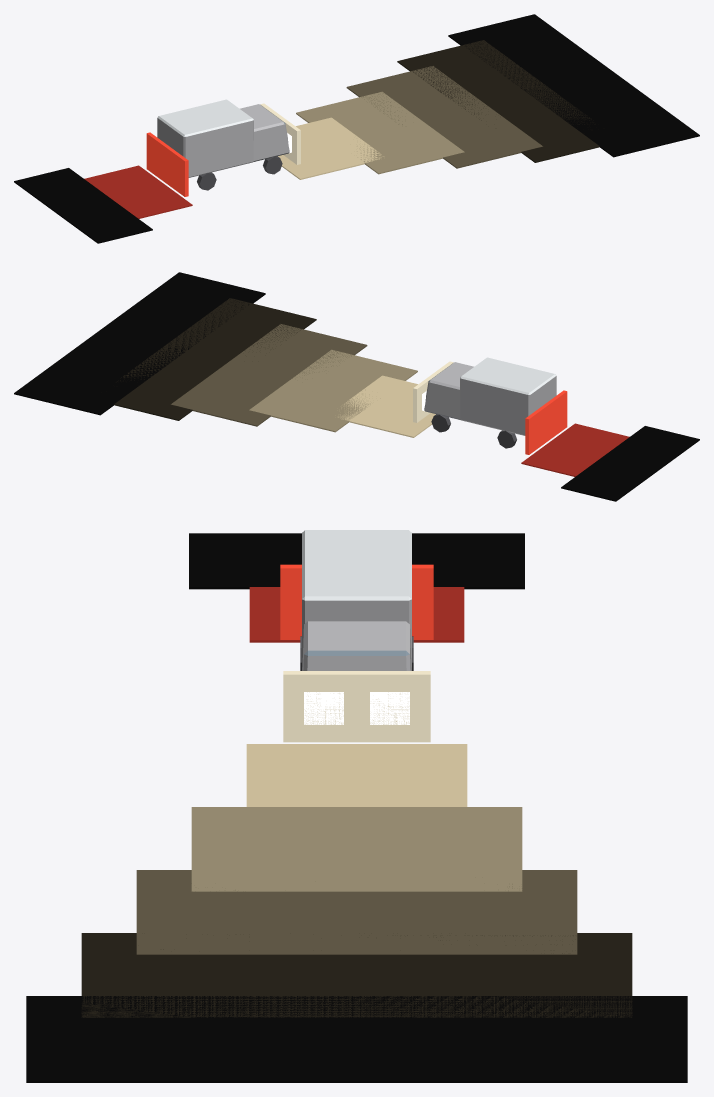
The model's file is veh_van_reefer.glb.
The picture shows the model from 3 angles, top to bottom: view 1: azimuth 30°, elevation 25°; view 2: azimuth 150°, elevation 25°; view 3: azimuth 270°, elevation 25°; orthographic projection. The views are drawn at different scales.
Parts seen in each view (by area): view 1: veh_van_reefer; view 2: veh_van_reefer; view 3: veh_van_reefer.
Part boxes in pixels (x1,y1,x2,y2): veh_van_reefer: (14, 14, 699, 243); veh_van_reefer: (14, 272, 699, 501); veh_van_reefer: (26, 530, 687, 1082).
Size of the model in its own units: 2 by 0.205 by 1.02.
